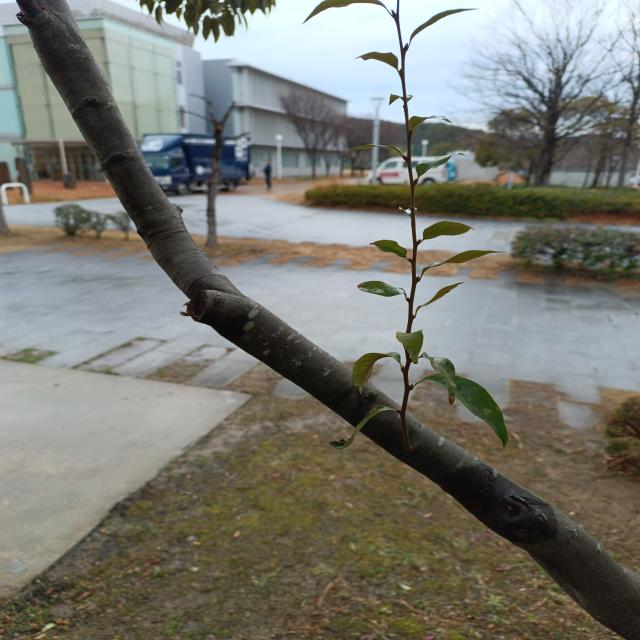Twig: (9, 0, 640, 640)
